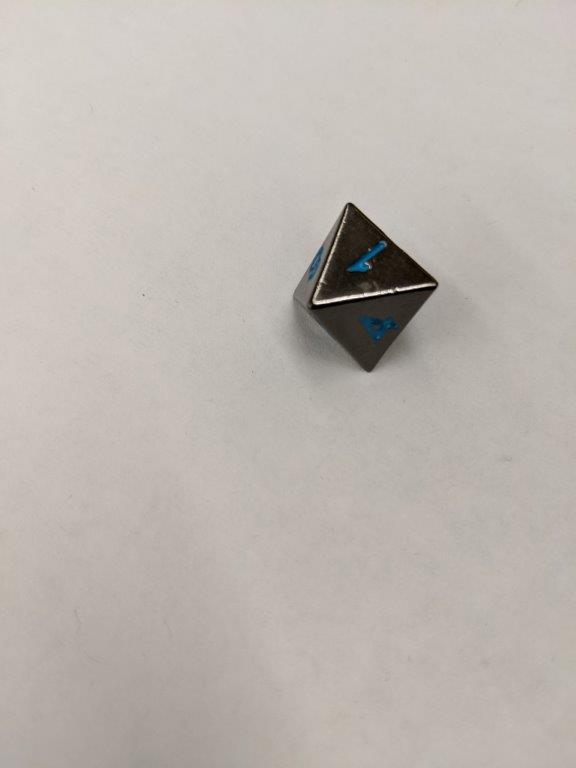d8-1: (292, 201, 439, 374)
